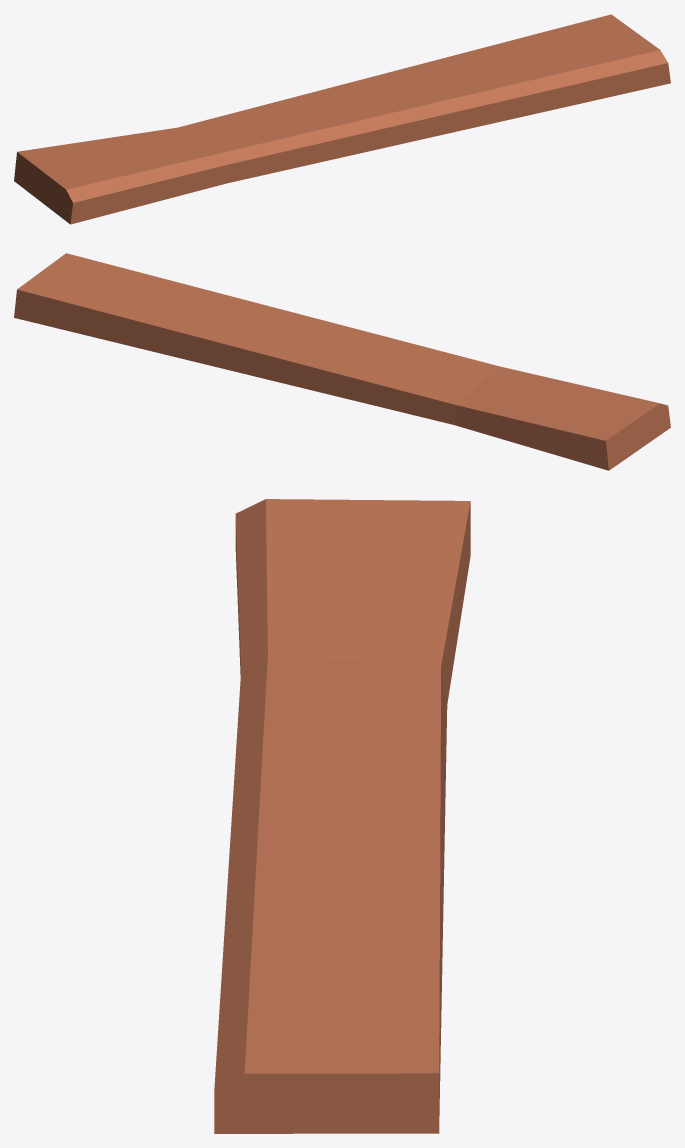
The model's file is Plank_1.fbx.
3 views of the same model, one above another, from view 1: azimuth 30°, elevation 25°; view 2: azimuth 150°, elevation 25°; view 3: azimuth 270°, elevation 25° (orthographic). The views are drawn at different scales.
Parts seen in each view (by area): view 1: Plank_1; view 2: Plank_1; view 3: Plank_1.
Boxes of the visible parts, box(x1,y1,x2,y2) form: Plank_1: box(14, 14, 670, 224); Plank_1: box(14, 253, 670, 470); Plank_1: box(214, 499, 470, 1133).
Size of the model in its own units: 2.4 by 0.1104 by 0.4482.
